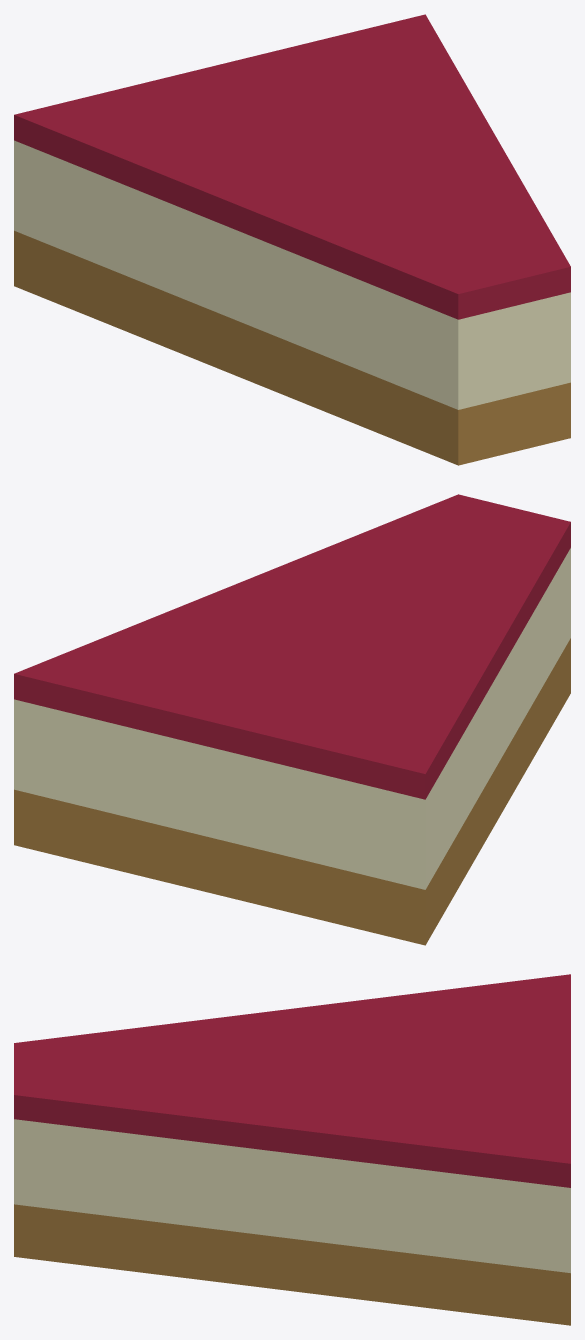
Rendered from CheeseCakeSliced.glb.
3 views of the same model, one above another, from view 1: azimuth 30°, elevation 25°; view 2: azimuth 150°, elevation 25°; view 3: azimuth 270°, elevation 25° (orthographic). The views are drawn at different scales.
Visible parts, largest first — view 1: SI_Food_Bakery_Cheesecake; view 2: SI_Food_Bakery_Cheesecake; view 3: SI_Food_Bakery_Cheesecake.
Boxes of the visible parts, <box> form: SI_Food_Bakery_Cheesecake: <box>14,14,570,465</box>; SI_Food_Bakery_Cheesecake: <box>14,494,570,945</box>; SI_Food_Bakery_Cheesecake: <box>14,974,570,1325</box>.
Bounding box in the file's own units: 0.00411 × 0.00164 × 0.0051.
1 material, 1 textured.
